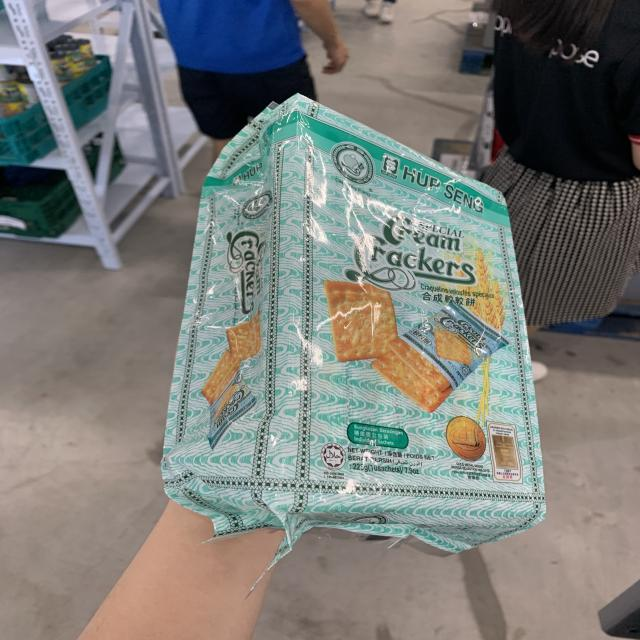object_name: (188, 122, 544, 530)
